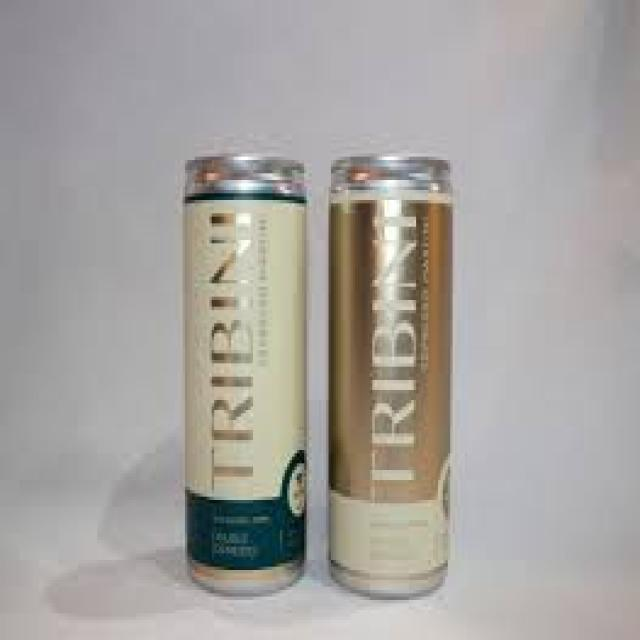Cans: (175, 140, 314, 593), (324, 143, 462, 597)
